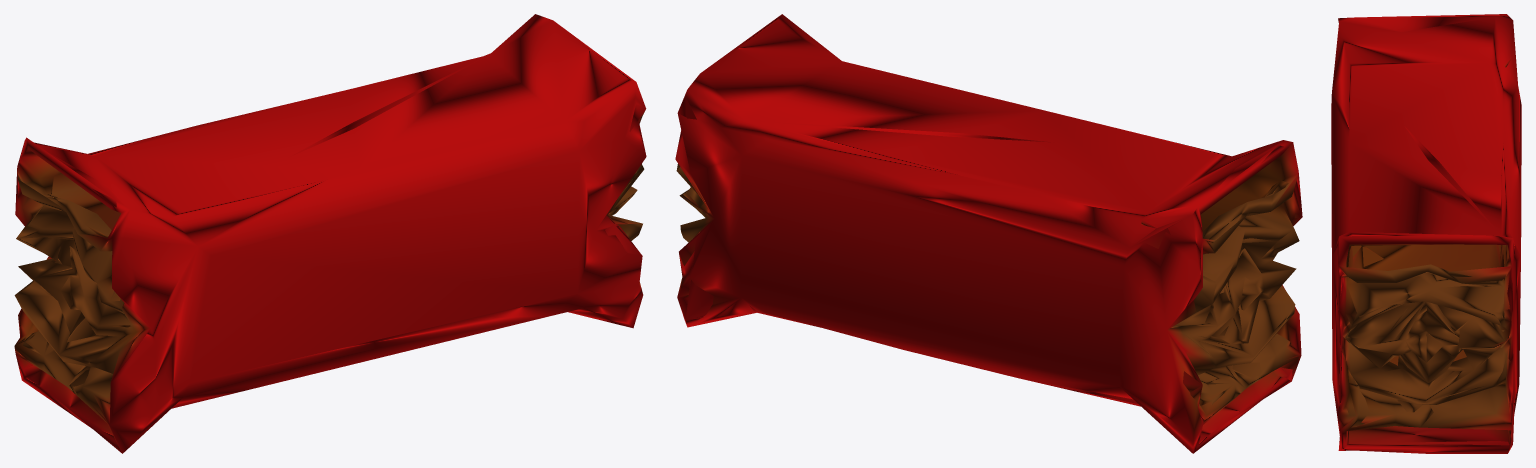
File: gen3d-candy-bar-lod1.glb
The picture shows the model from 3 angles, left to right: view 1: azimuth 30°, elevation 25°; view 2: azimuth 150°, elevation 25°; view 3: azimuth 270°, elevation 25°; orthographic projection. The views are drawn at different scales.
Visible parts, largest first — view 1: part_0; view 2: part_0; view 3: part_0.
Part boxes in pixels (<box>): part_0: <box>14,14,646,453</box>; part_0: <box>675,14,1302,453</box>; part_0: <box>1331,14,1521,453</box>.
Bounding box in the file's own units: 2.3 × 0.9983 × 0.7881.
